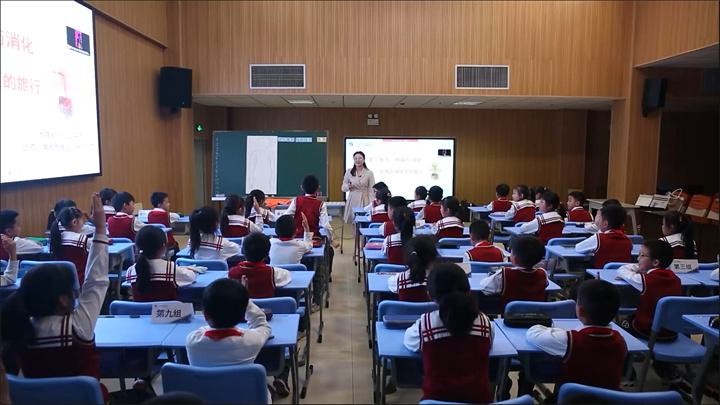hands-up: (27, 195, 108, 354), (192, 272, 267, 363), (264, 210, 319, 276), (206, 190, 263, 232)
listen: (402, 267, 494, 376), (542, 284, 627, 367), (621, 238, 682, 306), (572, 202, 629, 264), (521, 192, 566, 240), (107, 185, 145, 241), (376, 205, 417, 256), (150, 188, 186, 225), (436, 194, 467, 236), (488, 177, 511, 211)
stand: (289, 172, 324, 238)
